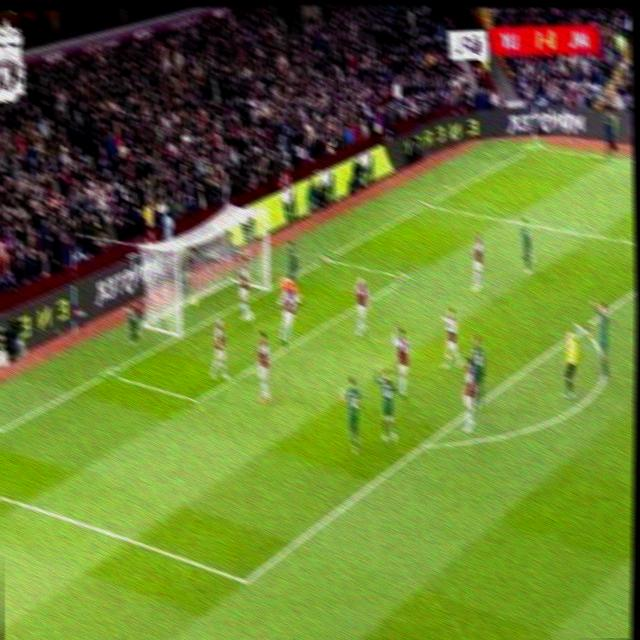bigarea_bottom_inner: (232, 562, 260, 598)
bigarea_top_outter: (418, 194, 436, 212)
bottom_arc_area_intersection: (413, 430, 436, 457)
corner: (523, 137, 546, 155)
smallarea_bottom_inner: (185, 382, 210, 415)
smallarea_bottom_outter: (98, 360, 117, 385)
smallarea_top_inner: (395, 264, 418, 289)
smallarea_top_outter: (316, 246, 336, 268)
top_arc_area_intersection: (572, 317, 590, 339)
